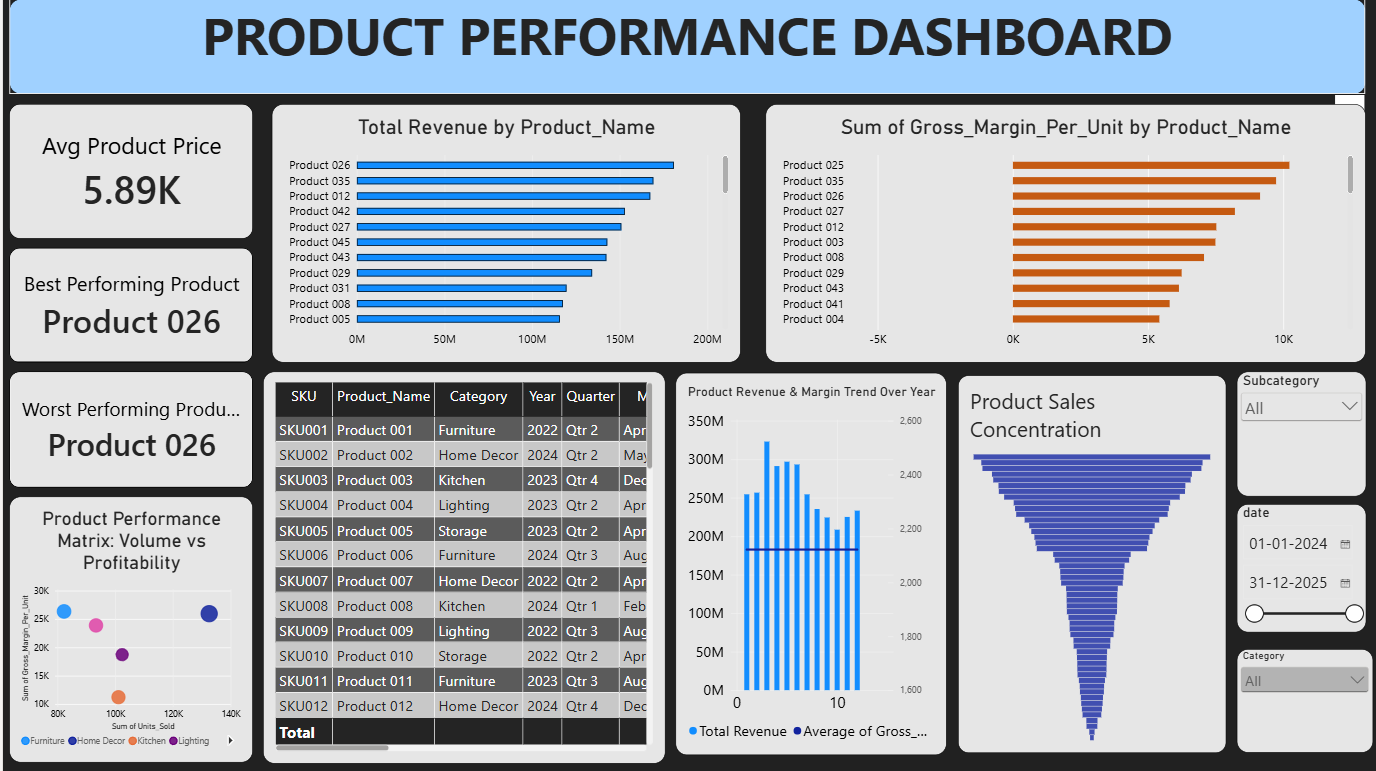

Layout of this report page (visuals, bound fields, positions):
{"tool":"powerbi","page":{"name":"Page 3","canvas":[1920,1080],"ordinal":2},"visuals":[{"type":"textbox","box":[9.4,0,1892.5,132.5],"z":0},{"type":"cardVisual","fields":{"Data":["_Measures.Avg Product Price"]},"box":[8.7,146.5,340.1,188.4],"z":1},{"type":"cardVisual","fields":{"Data":["_Measures.Best Performing Product"]},"box":[8.7,347.1,340.1,160.5],"z":2},{"type":"cardVisual","fields":{"Data":["_Measures.Worst Performing Product"]},"box":[8.7,519.8,340.1,162.2],"z":3},{"type":"barChart","fields":{"Category":["sku_master (2).Product_Name"],"Y":["_Measures.Total Revenue"]},"box":[375,146.5,654.1,361],"z":4},{"type":"barChart","fields":{"Category":["sku_master (2).Product_Name"],"Y":["Sum(sku_master (2).Gross_Margin_Per_Unit)"]},"box":[1064,146.5,837.2,361],"z":5},{"type":"scatterChart","title":"Product Performance Matrix: Volume vs Profitability","fields":{"Series":["sku_master (2).Category"],"Size":["_Measures.Total Revenue"],"X":["Sum(sales_daily (2).Units_Sold)"],"Y":["Sum(sku_master (2).Gross_Margin_Per_Unit)"]},"box":[8.7,694.2,340.1,371.5],"z":6},{"type":"tableEx","fields":{"Values":["sku_master (2).SKU","sku_master (2).Product_Name","sku_master (2).Category","sku_master (2).Launch_Date.Variation.Date Hierarchy.Year","sku_master (2).Launch_Date.Variation.Date Hierarchy.Quarter","sku_master (2).Launch_Date.Variation.Date Hierarchy.Month","sku_master (2).Launch_Date.Variation.Date Hierarchy.Day","Sum(sku_master (2).Gross_Margin_Per_Unit)","Sum(sku_master (2).Cost_Price)","Sum(sku_master (2).Selling_Price)","sku_master (2).Subcategory","_Measures.Total Revenue"]},"box":[363.2,519.1,561.2,547.2],"z":7},{"type":"lineStackedColumnComboChart","title":"Product Revenue & Margin Trend Over Year","fields":{"Category":["calendar (2).month"],"Y":["_Measures.Total Revenue"],"Y2":["Avg(sku_master (2).Gross_Margin_Per_Unit)"]},"box":[938.5,522.2,378.5,533.7],"z":9},{"type":"funnel","title":"Product Sales Concentration","fields":{"Category":["sku_master (2).Product_Name"],"Y":["_Measures.Total Revenue"]},"box":[1332.9,525.3,374.1,526.9],"z":10},{"type":"slicer","fields":{"Values":["sku_master (2).Category"]},"box":[1721,907.3,190.2,145],"z":11},{"type":"slicer","fields":{"Values":["sku_master (2).Subcategory"]},"box":[1721,519.1,180.8,174.6],"z":12},{"type":"slicer","fields":{"Values":["calendar (2).date"]},"box":[1721,704.6,180.8,179.3],"z":13}]}

Visuals, with their boxes in screenshot pixels (x1, y1, x2, y2), scaled from the page's 1920x1080 canvas onto the 1376x771 screenshot:
textbox: detection(7, 0, 1363, 95)
cardVisual - _Measures.Avg Product Price: detection(6, 105, 250, 239)
cardVisual - _Measures.Best Performing Product: detection(6, 248, 250, 362)
cardVisual - _Measures.Worst Performing Product: detection(6, 371, 250, 487)
barChart - sku_master (2).Product_Name x _Measures.Total Revenue: detection(269, 105, 738, 362)
barChart - sku_master (2).Product_Name x Sum(sku_master (2).Gross_Margin_Per_Unit): detection(763, 105, 1363, 362)
"Product Performance Matrix: Volume vs Profitability" scatterChart: detection(6, 496, 250, 761)
tableEx - sku_master (2).SKU x sku_master (2).Product_Name: detection(260, 371, 662, 761)
"Product Revenue & Margin Trend Over Year" lineStackedColumnComboChart: detection(673, 373, 944, 754)
"Product Sales Concentration" funnel: detection(955, 375, 1223, 751)
slicer - sku_master (2).Category: detection(1233, 648, 1370, 751)
slicer - sku_master (2).Subcategory: detection(1233, 371, 1363, 495)
slicer - calendar (2).date: detection(1233, 503, 1363, 631)
